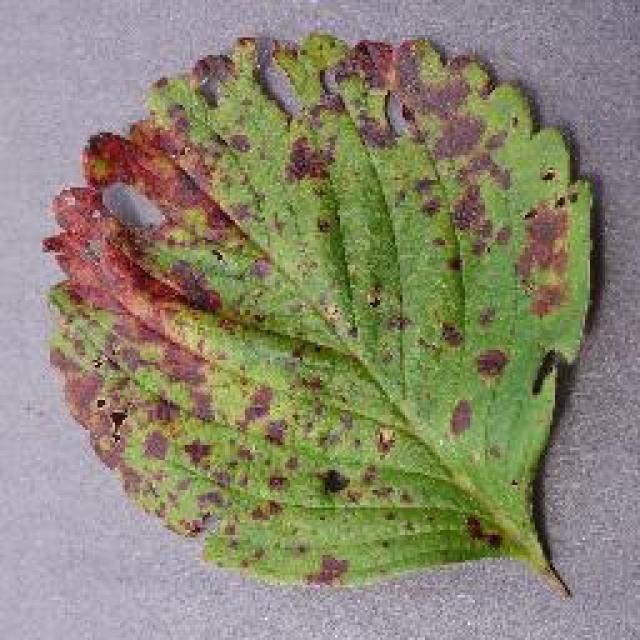Strawberry leaf scorch: (53, 70, 567, 488)
